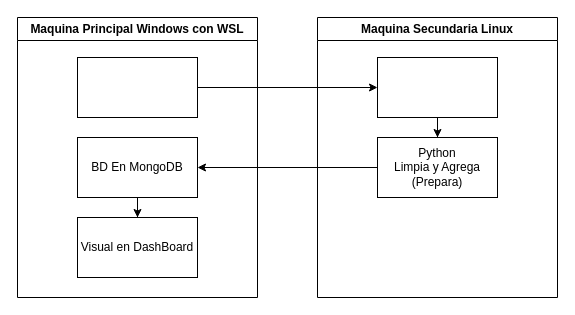
The diagram is 575 pixels wide and 315 high, and some of its shapes have lost their labels. The centre of each missing label's shape, as x and y in pixels:
API: point (137, 87)
Topic Pedidos-pizza: point (437, 87)
